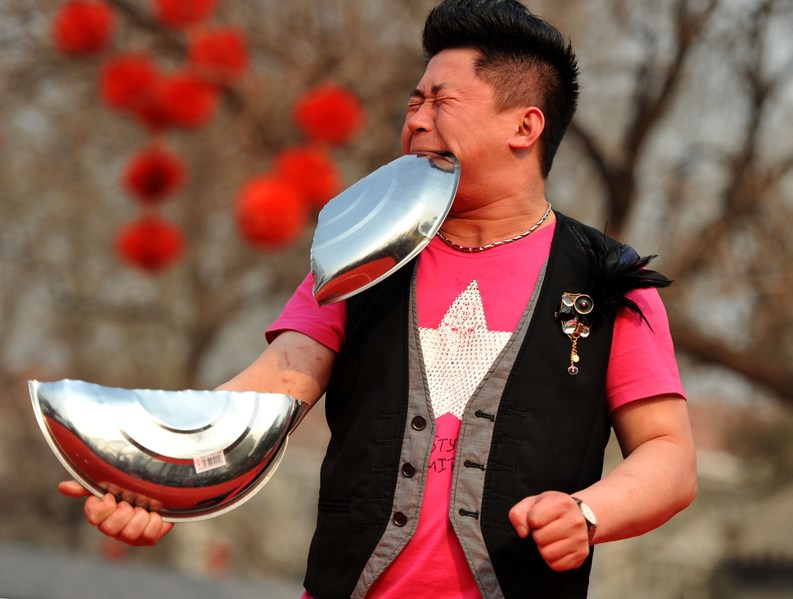face: (402, 54, 499, 201)
